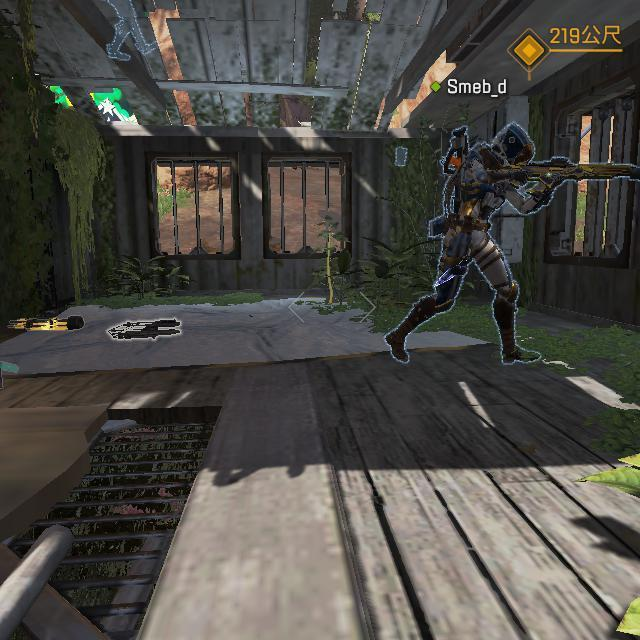avatar: (433, 119, 539, 368)
